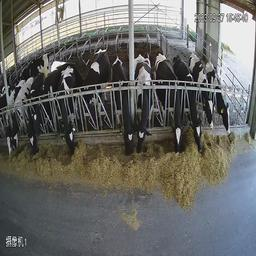cow: (107, 53, 136, 169), (176, 56, 207, 161), (156, 58, 187, 161), (28, 52, 59, 153), (132, 47, 156, 163), (79, 46, 111, 129), (52, 56, 77, 156), (3, 64, 30, 151), (191, 55, 219, 137), (208, 58, 237, 137)
